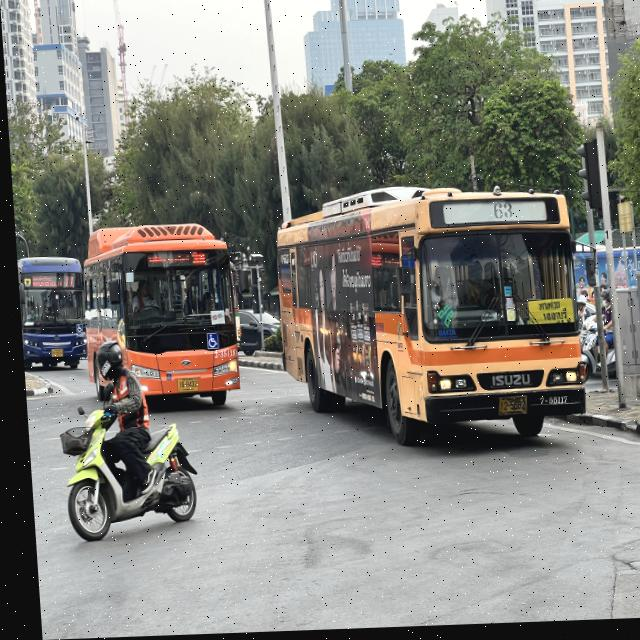BMTA-bus: (264, 180, 586, 457)
Bus Line Number: (485, 203, 514, 225), (187, 249, 205, 266), (58, 273, 71, 288)
Bus Side Number: (530, 397, 564, 412), (206, 348, 234, 363), (71, 332, 82, 338)
Destination Sign: (523, 303, 569, 328), (143, 254, 188, 268), (27, 273, 59, 289)
TSB-Bus: (75, 219, 238, 417), (13, 249, 83, 375)
